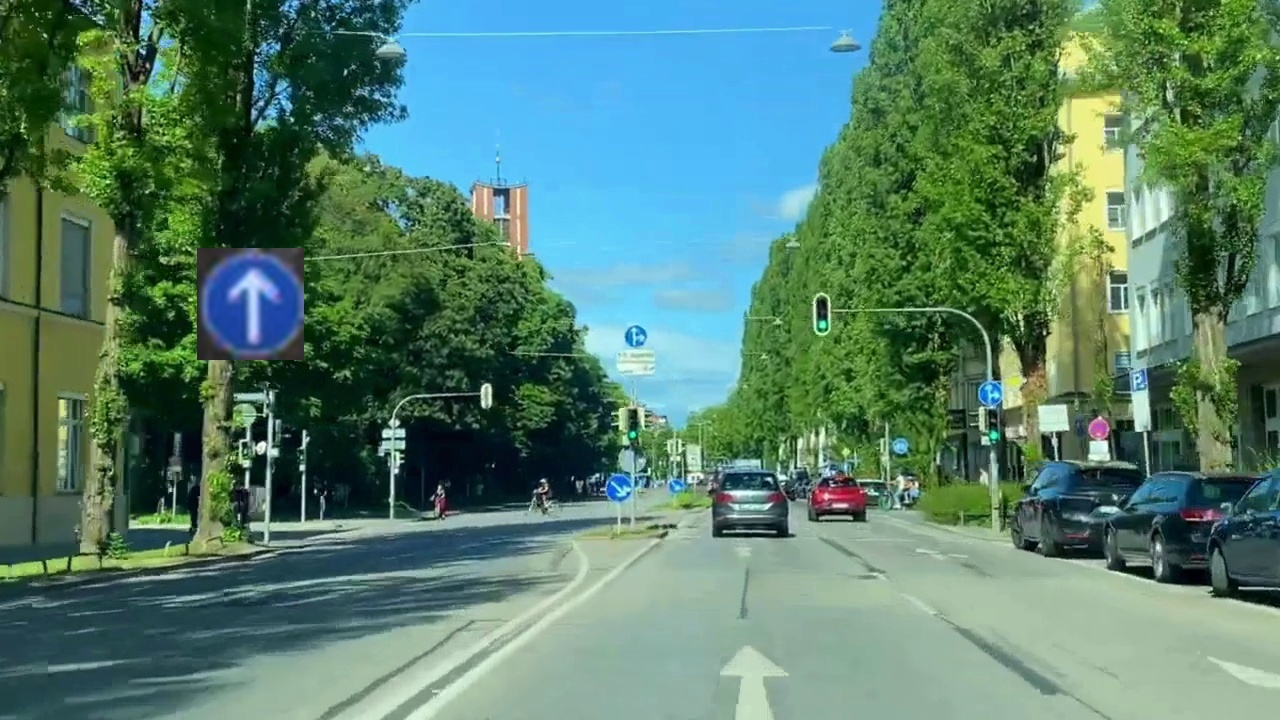Ahead only: (197, 248, 304, 360)
